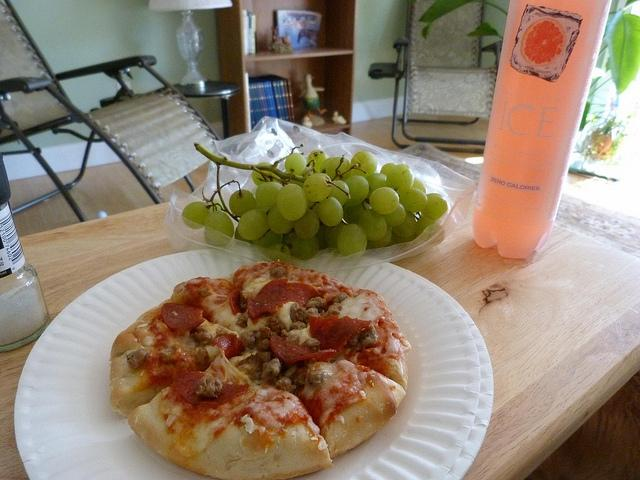grape: (303, 172, 348, 202), (276, 184, 308, 221), (204, 210, 234, 246), (336, 224, 367, 258), (358, 209, 387, 241), (238, 210, 268, 240), (386, 164, 414, 196), (369, 186, 399, 214), (182, 202, 212, 230), (267, 204, 295, 234), (344, 174, 369, 206), (288, 234, 318, 260), (320, 157, 351, 182), (350, 151, 378, 178), (295, 209, 319, 240), (420, 193, 448, 219), (318, 197, 343, 226), (229, 190, 256, 216), (392, 210, 417, 238), (255, 182, 283, 207), (400, 188, 428, 212), (252, 162, 280, 186), (381, 202, 406, 228), (324, 222, 346, 248), (365, 172, 387, 198), (422, 223, 445, 246), (328, 181, 349, 206), (285, 152, 306, 176), (308, 150, 326, 173), (268, 243, 292, 256), (412, 179, 426, 194), (380, 163, 396, 176)
